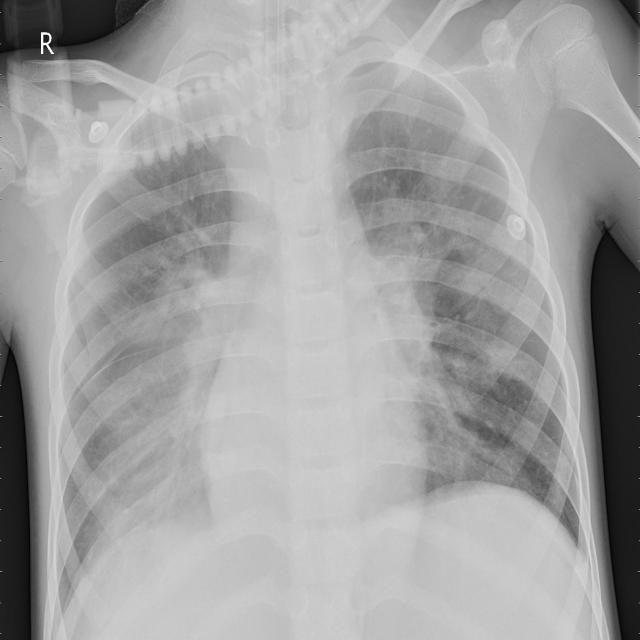high-pneumonia: (93, 237, 237, 531), (101, 73, 237, 190)
low-pneumonia: (367, 157, 528, 486)
